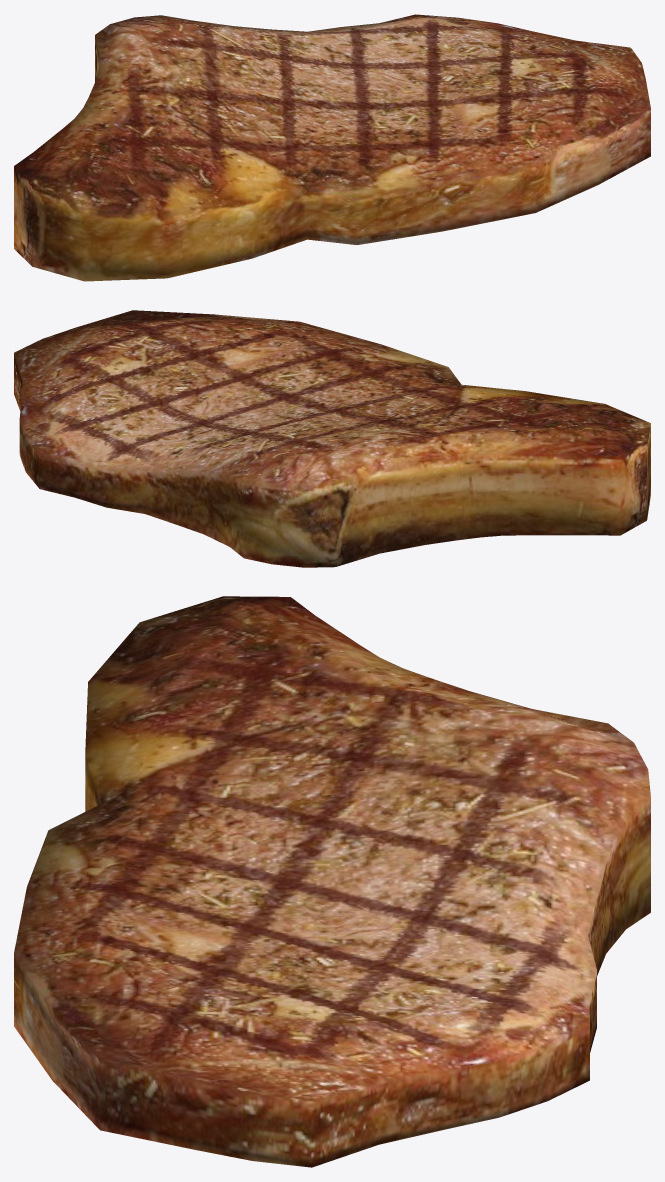
Rendered from steak.glb.
3 views of the same model, one above another, from view 1: azimuth 30°, elevation 25°; view 2: azimuth 150°, elevation 25°; view 3: azimuth 270°, elevation 25° (orthographic). The views are drawn at different scales.
Visible parts, largest first — view 1: steak_Cube; view 2: steak_Cube; view 3: steak_Cube.
Part boxes in pixels (x1,y1,x2,y2): steak_Cube: (14, 14, 650, 281); steak_Cube: (14, 310, 650, 567); steak_Cube: (14, 596, 650, 1167).
Bounding box in the file's own units: 0.16 × 0.0251 × 0.0952.
1 material, 1 textured.
